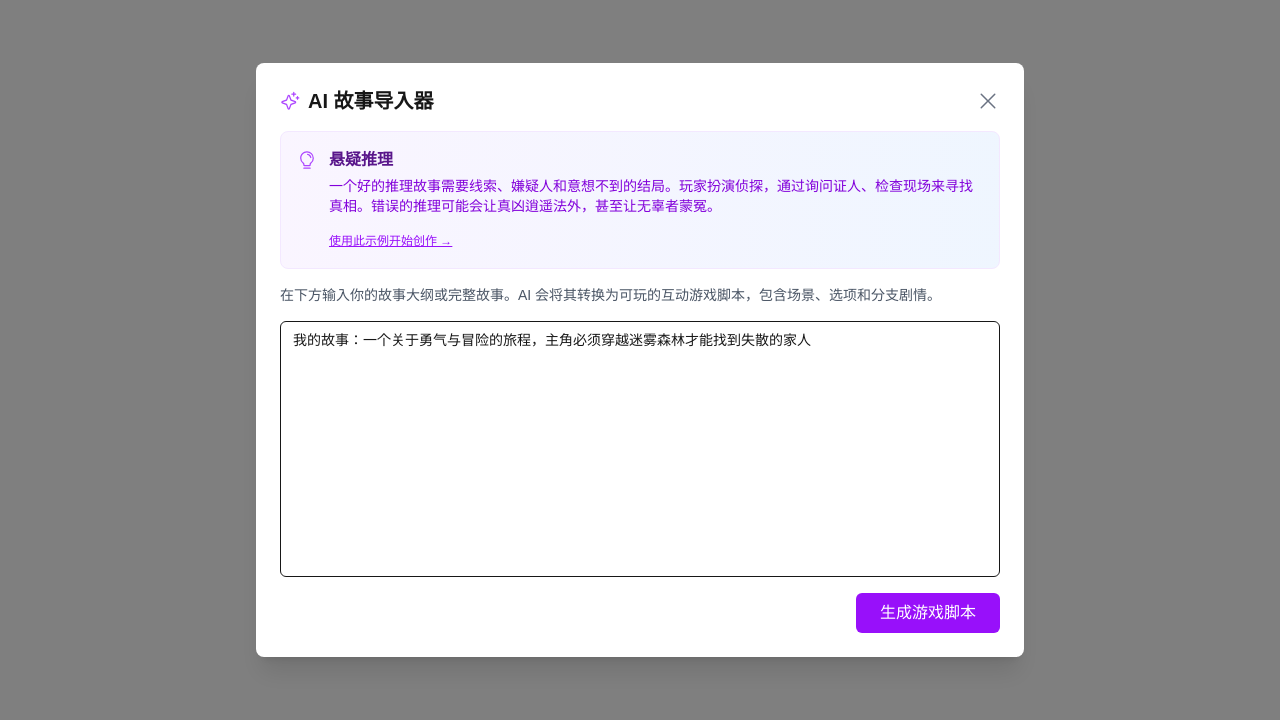
Test case: StoryImporter › 已有剧本时的生成方式选择 › 点击生成时先展示"重新生成/修改老剧本"选择，不立即请求
Click the button "生成游戏脚本" at (928, 613), box [856,593,1000,633]
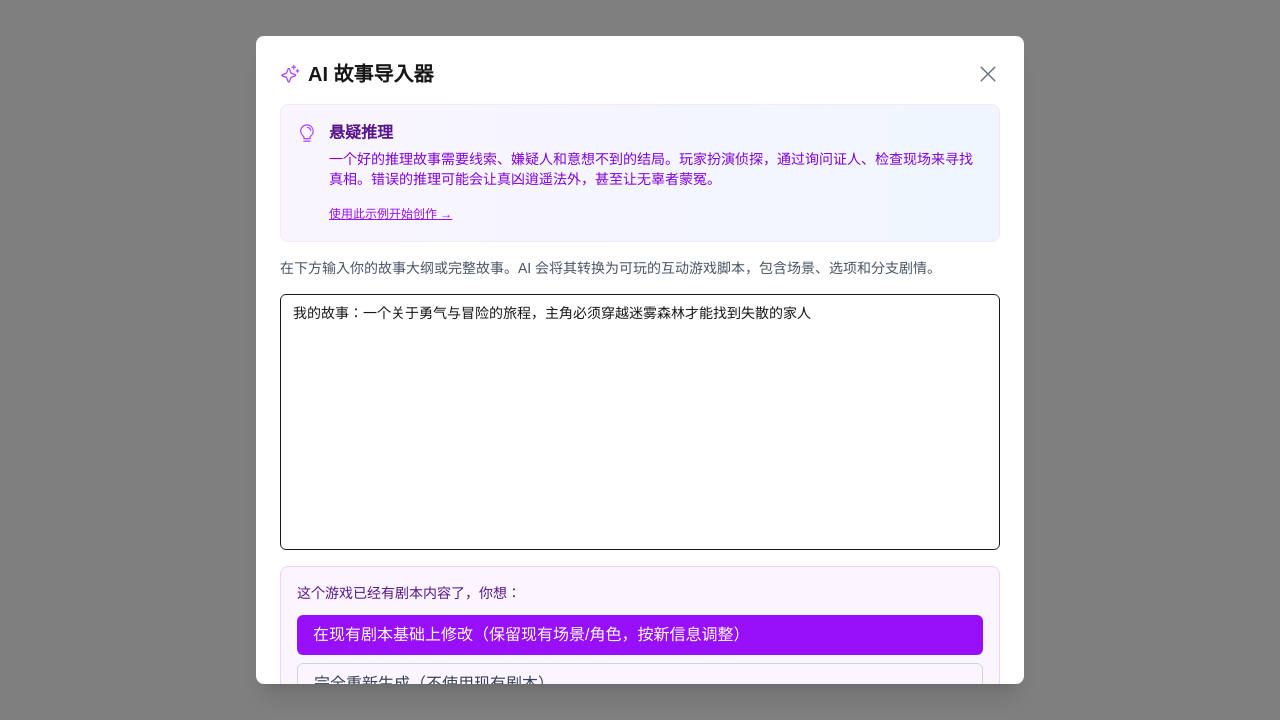
Check: the text "这个游戏已经有剧本内容了，你想：" is shown, box [297,585,521,601]
